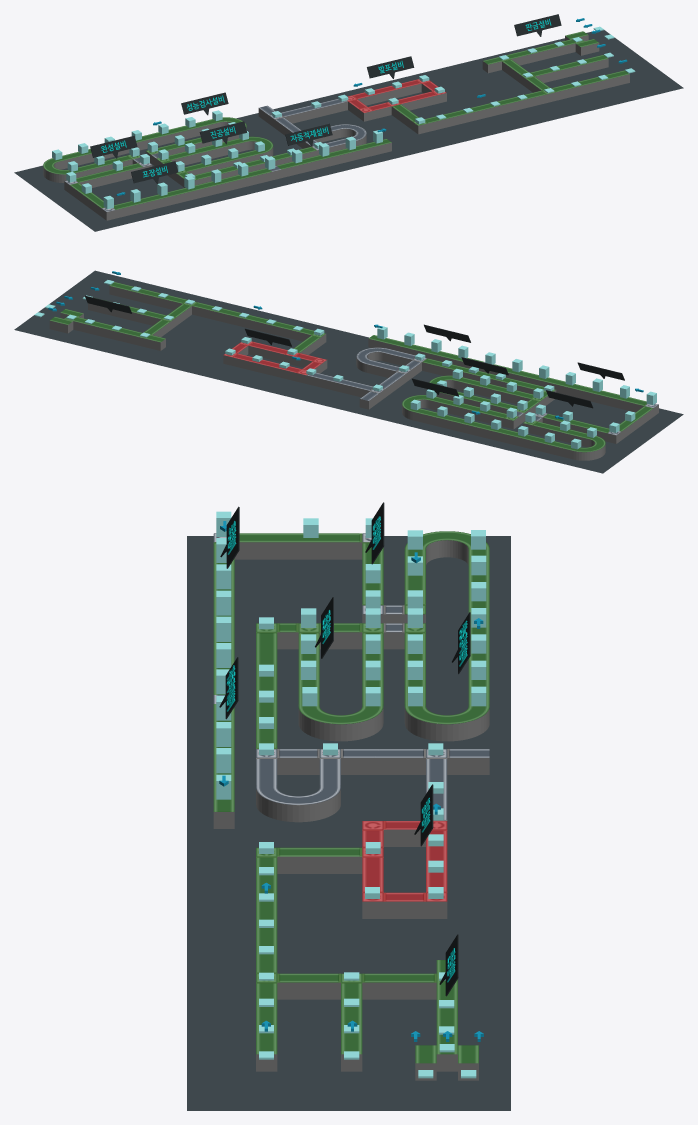
File: dsg_a.gltf
The picture shows the model from 3 angles, top to bottom: view 1: azimuth 30°, elevation 25°; view 2: azimuth 150°, elevation 25°; view 3: azimuth 270°, elevation 25°; orthographic projection. The views are drawn at different scales.
Visible parts, largest first — view 1: floor, A-line_base2, Top_map.A, a_line_009-5ex, a_line_008-4ex, a_line_005-5ex, a_line_012, a_line_004-2ex, a_line_001-3ex, Cube.066, Cube.067, Cube.065 (+8 smaller); view 2: floor, A-line_base2, Top_map.A, a_line_009-5ex, a_line_005-5ex, a_line_008-4ex, a_line_004-2ex, a_line_012, a_line_001-3ex, a_line_007-2ex, a_line_003-2ex, a_line_013 (+8 smaller); view 3: floor, Top_map.A, A-line_base2, a_line_009-5ex, a_line_005-5ex, a_line_008-4ex, a_line_004-2ex, a_line_007-2ex, a_line_002-2ex, a_line_001-3ex, a_line_003-2ex, a_line_011 (+2 smaller).
Boxes of the visible parts, x1,y1,x2,y2 form: floor: (14,30,683,231); A-line_base2: (43,35,629,220); Top_map.A: (43,31,628,211); a_line_009-5ex: (43,117,246,174); a_line_008-4ex: (157,136,273,173); a_line_005-5ex: (347,79,446,112); a_line_012: (114,168,271,209); a_line_004-2ex: (392,90,546,125); a_line_001-3ex: (483,31,598,64); Cube.066: (90,135,137,158); Cube.067: (131,161,178,183); Cube.065: (199,121,246,144); floor: (14,270,683,473); A-line_base2: (49,286,658,460); Top_map.A: (50,282,658,452); a_line_009-5ex: (402,395,605,452); a_line_005-5ex: (224,341,326,374); a_line_008-4ex: (429,375,545,412); a_line_004-2ex: (192,302,325,352); a_line_012: (493,364,646,405); a_line_001-3ex: (50,309,165,342); a_line_007-2ex: (423,358,555,397); a_line_003-2ex: (109,282,196,317); a_line_013: (369,335,483,361); floor: (187,536,510,1110); Top_map.A: (213,531,489,1063); A-line_base2: (213,533,489,1080); a_line_009-5ex: (404,531,489,724); a_line_005-5ex: (362,821,447,901); a_line_008-4ex: (298,623,383,724); a_line_004-2ex: (256,847,362,973); a_line_007-2ex: (256,623,298,748); a_line_002-2ex: (341,973,436,1054); a_line_001-3ex: (415,960,478,1063); a_line_003-2ex: (256,973,340,1054); a_line_011: (239,533,362,542).
Size of the model in its own units: 36.13 by 2.26 by 8.61.
9 materials, 1 textured.
